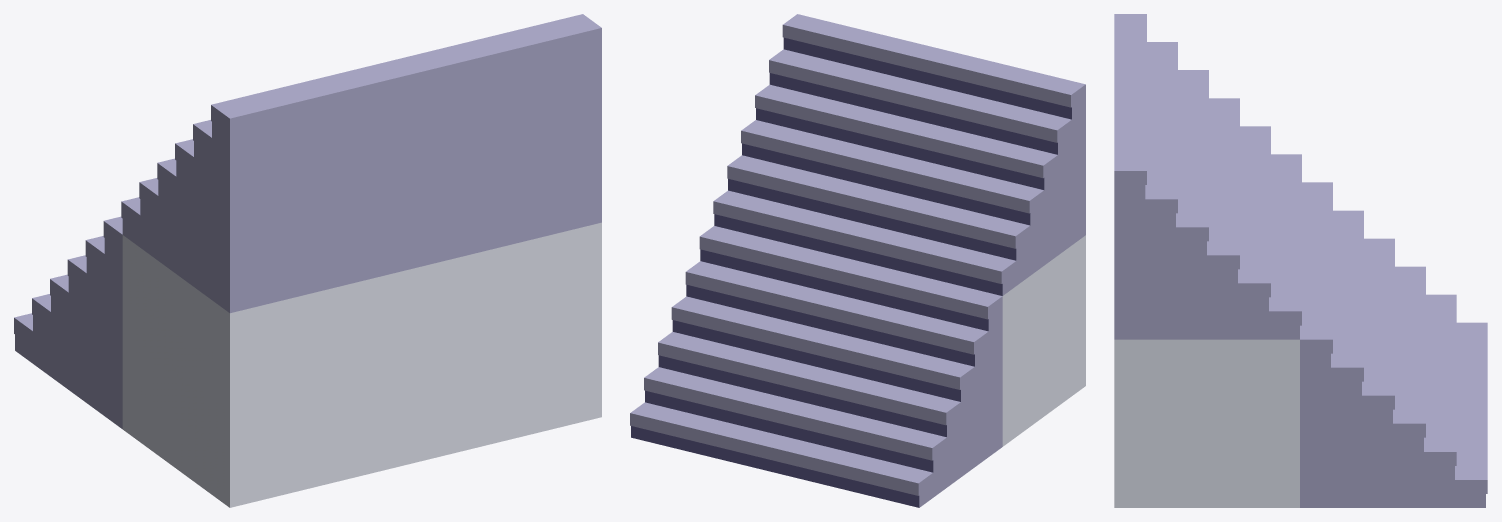
The model's file is Stairs.glb.
The picture shows the model from 3 angles, left to right: view 1: azimuth 30°, elevation 25°; view 2: azimuth 150°, elevation 25°; view 3: azimuth 270°, elevation 25°; orthographic projection. The views are drawn at different scales.
Parts seen in each view (by area): view 1: mergedBlocks(Clone); view 2: mergedBlocks(Clone); view 3: mergedBlocks(Clone).
Boxes of the visible parts, x1=… form: mergedBlocks(Clone): x1=14, y1=14, x2=601, y2=507; mergedBlocks(Clone): x1=630, y1=14, x2=1085, y2=507; mergedBlocks(Clone): x1=1114, y1=14, x2=1487, y2=507.
Size of the model in its own units: 2 by 2 by 2.01.
